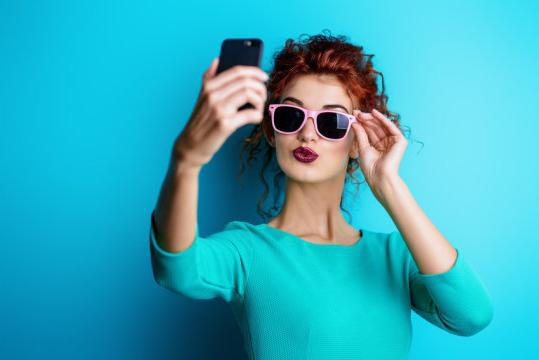face: (275, 75, 351, 182)
